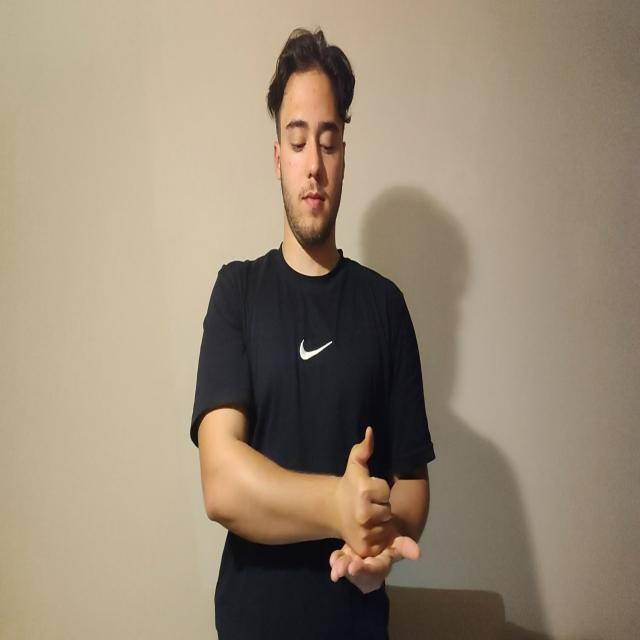help: (330, 430, 423, 585)
